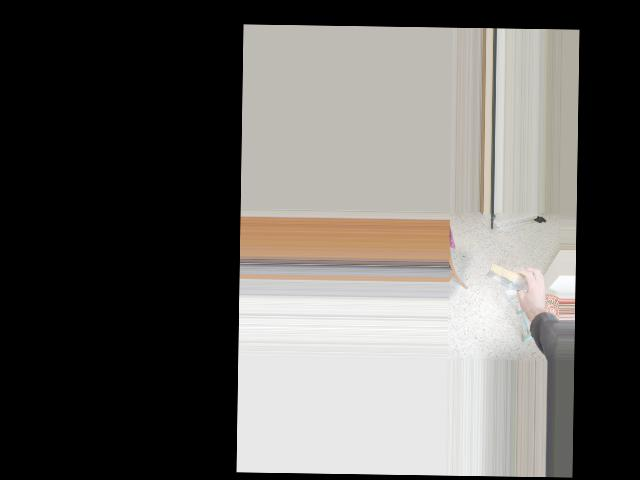cheese: (483, 259, 537, 295)
